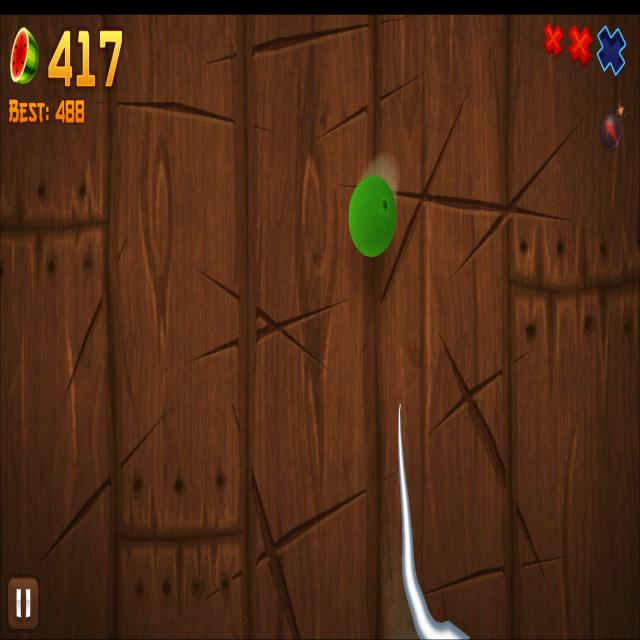fruit: (348, 174, 397, 258)
